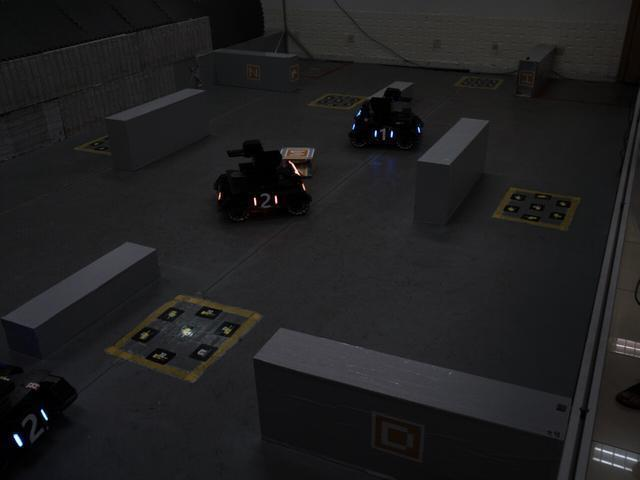armor: (9, 409, 56, 451), (249, 190, 280, 211), (371, 123, 396, 145)
